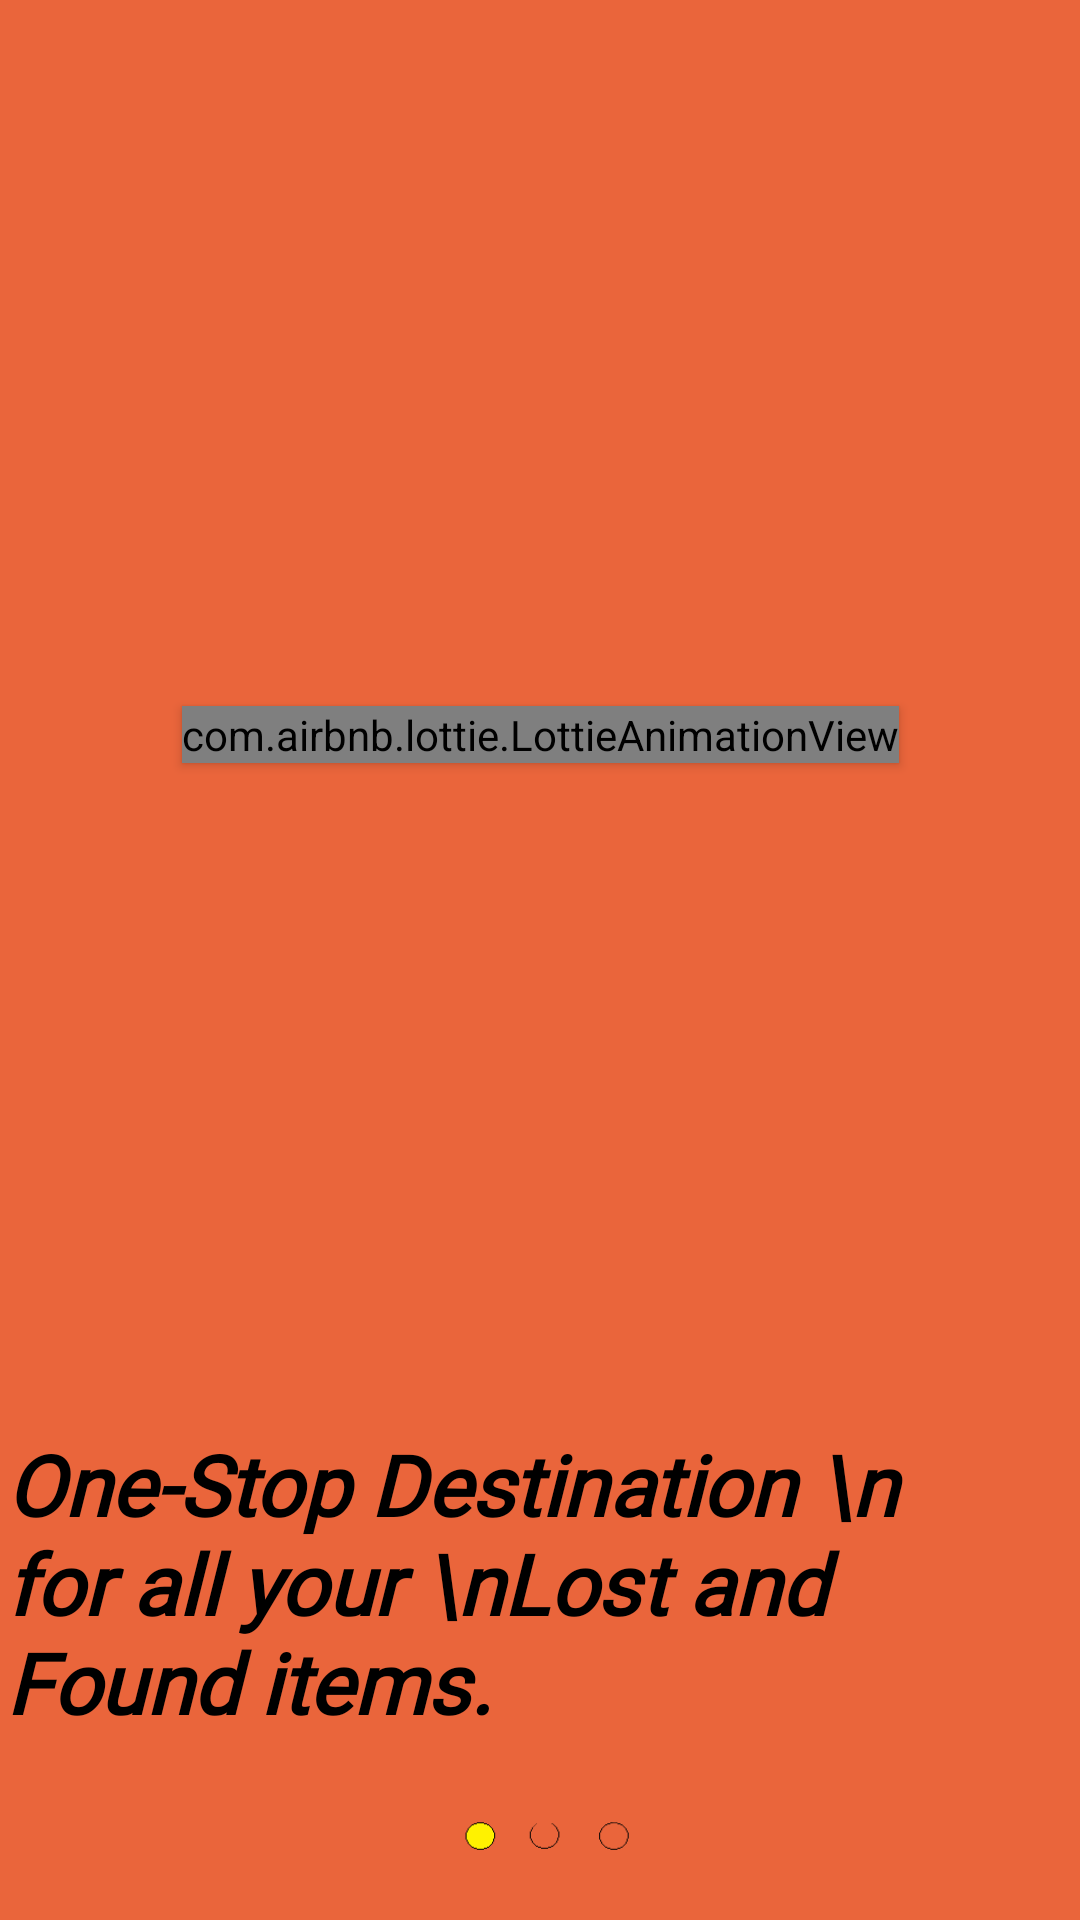

Where to tap for icons on this 1080px x 1920px app screen, as (x,y):
tab: (547,1836)
